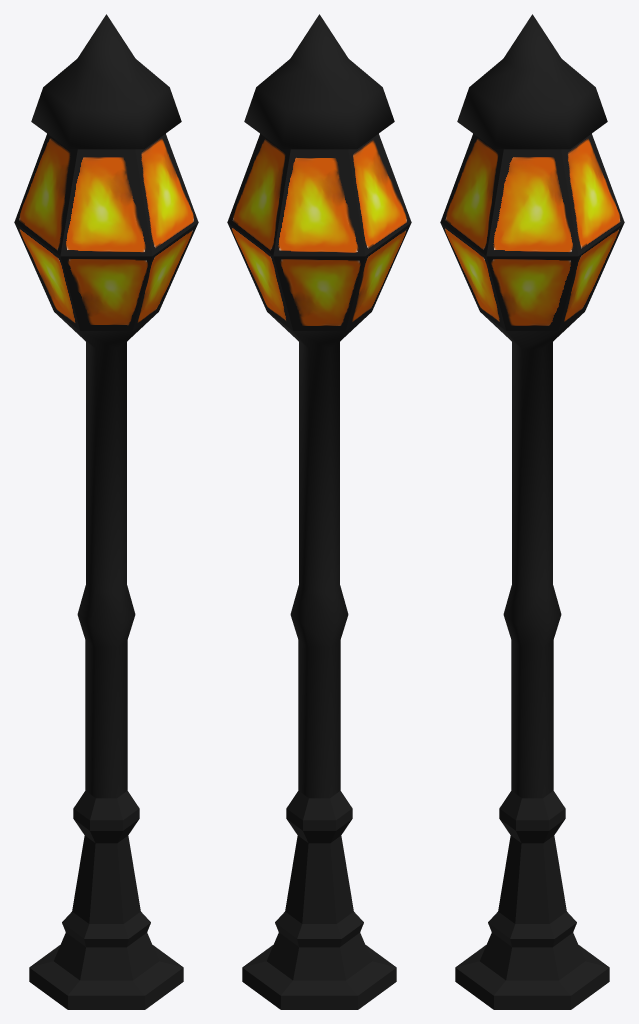
Rendered from lamp.obj.
3 renders of one model, left to right at view 1: azimuth 30°, elevation 25°; view 2: azimuth 150°, elevation 25°; view 3: azimuth 270°, elevation 25°, orthographic.
Bounding box in the file's own units: 0.1436 × 0.9602 × 0.1658.
